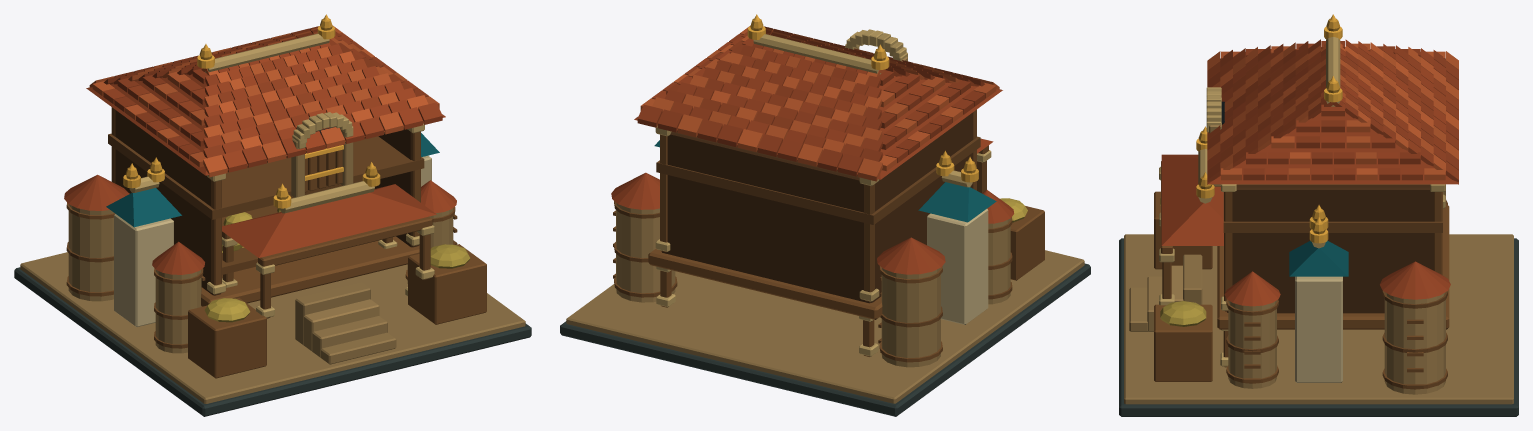
3 renders of one model, left to right at view 1: azimuth 30°, elevation 25°; view 2: azimuth 150°, elevation 25°; view 3: azimuth 270°, elevation 25°, orthographic. The views are drawn at different scales.
Visible parts, largest first — view 1: granary_9_structure, granary_9_metal; view 2: granary_9_structure, granary_9_metal; view 3: granary_9_structure, granary_9_metal.
Part boxes in pixels (x1,y1,x2,y2): granary_9_structure: [14, 18, 531, 416]; granary_9_metal: [123, 14, 380, 208]; granary_9_structure: [560, 18, 1090, 416]; granary_9_metal: [747, 14, 978, 182]; granary_9_structure: [1119, 18, 1518, 416]; granary_9_metal: [1196, 14, 1342, 243].
Size of the model in its own units: 5.6 by 4.46 by 5.6.
